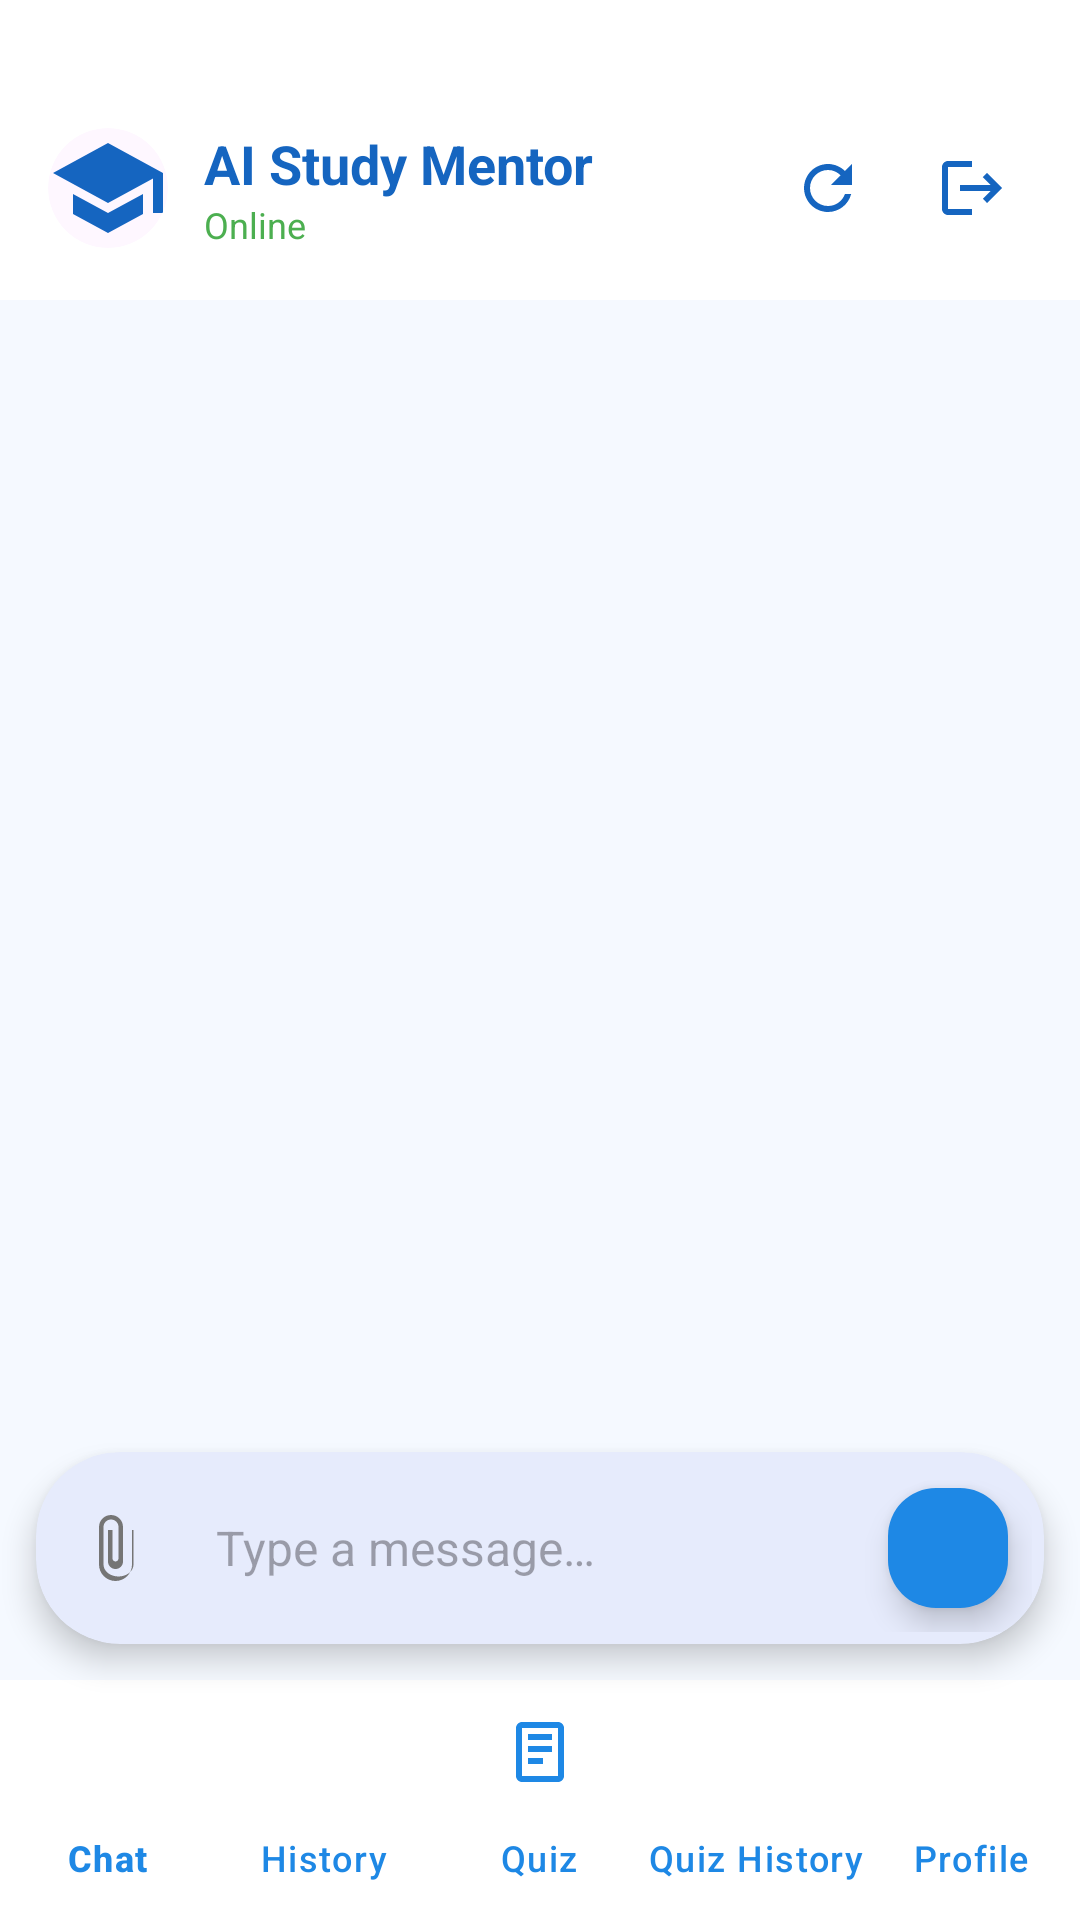

Named icons in this screenshot (1080 x 1920) and their bounding boxes, (x1, y1, x2, y2):
Attach file: (99, 1515, 134, 1581)
